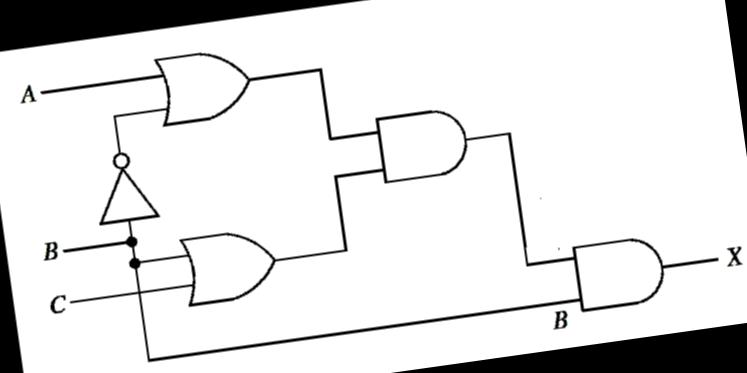and: (367, 96, 481, 190), (562, 228, 674, 316)
not: (86, 144, 162, 228)
or: (146, 40, 261, 130), (172, 221, 284, 310)
